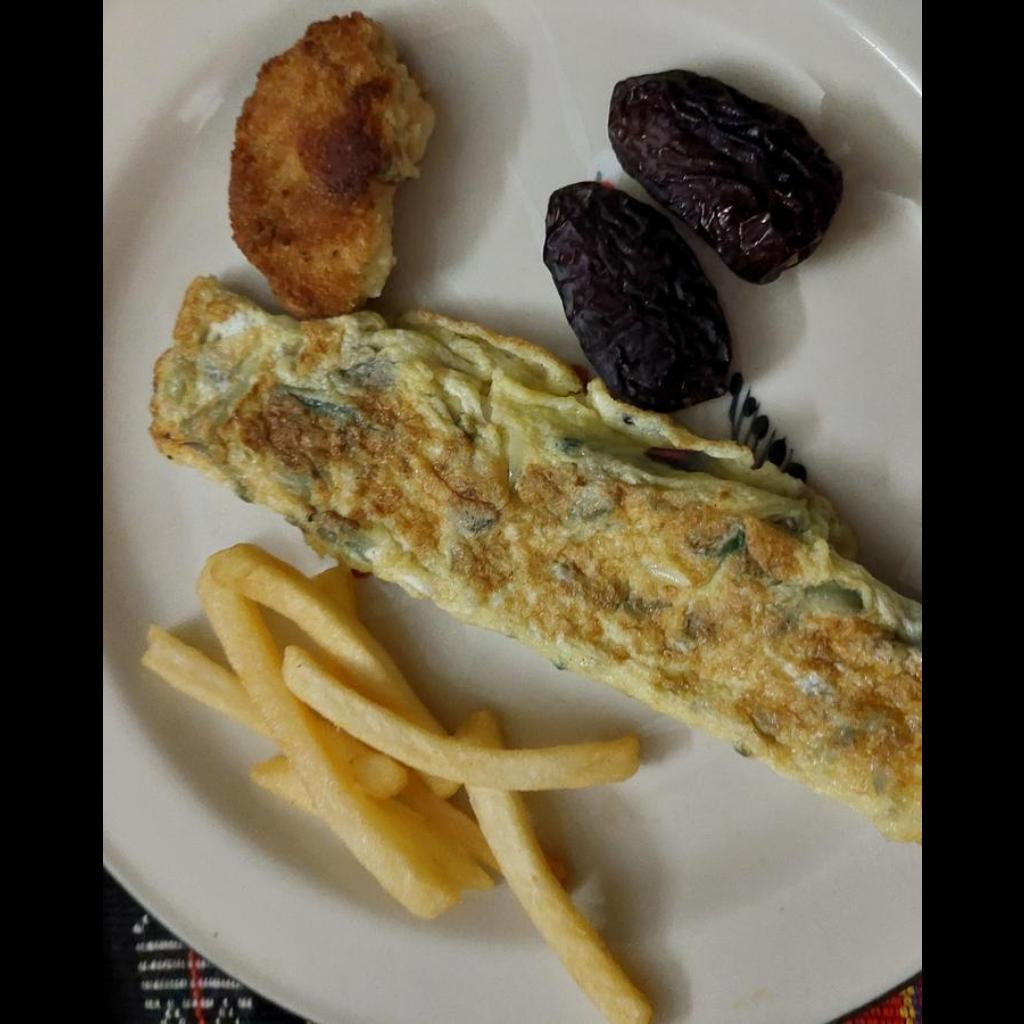dates: (544, 66, 849, 410)
egg-poached: (148, 277, 920, 844)
kabab: (224, 17, 432, 303)
potato: (133, 549, 653, 1023)
